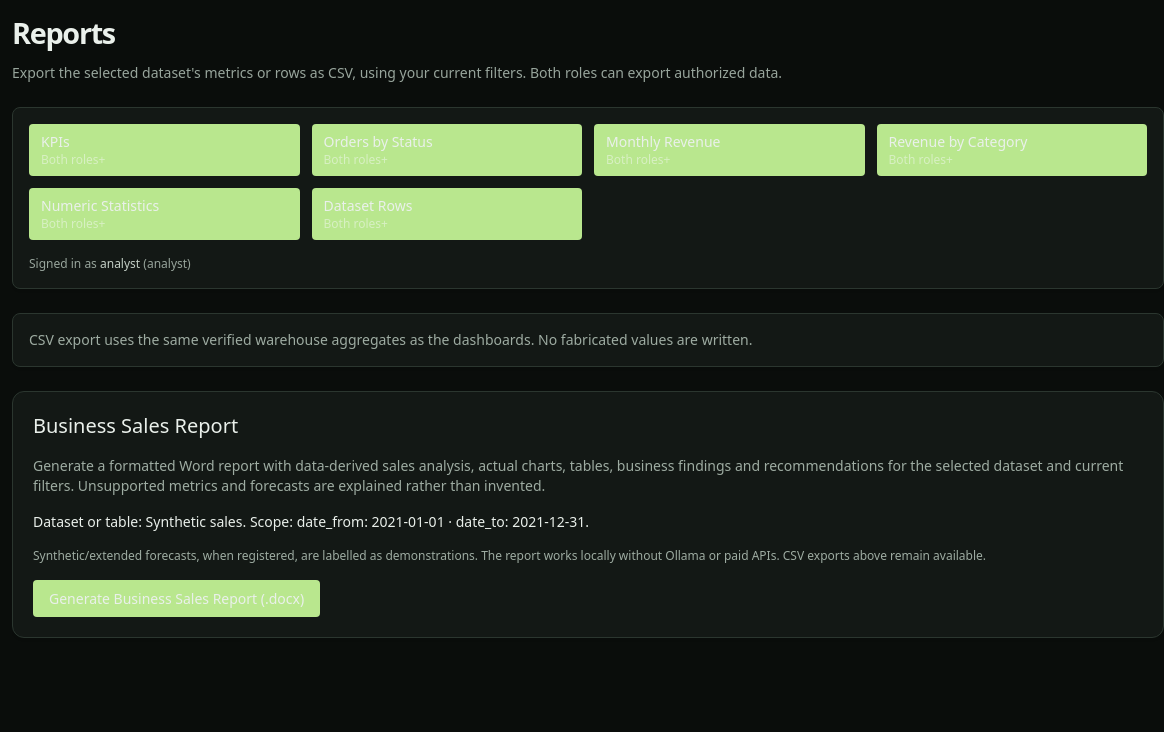
Test case: shows server errors and an actionable retry without claiming a document exists
Click the button "Generate Business Sales Report (.docx)". click: (177, 598)
box: [33, 580, 320, 616]
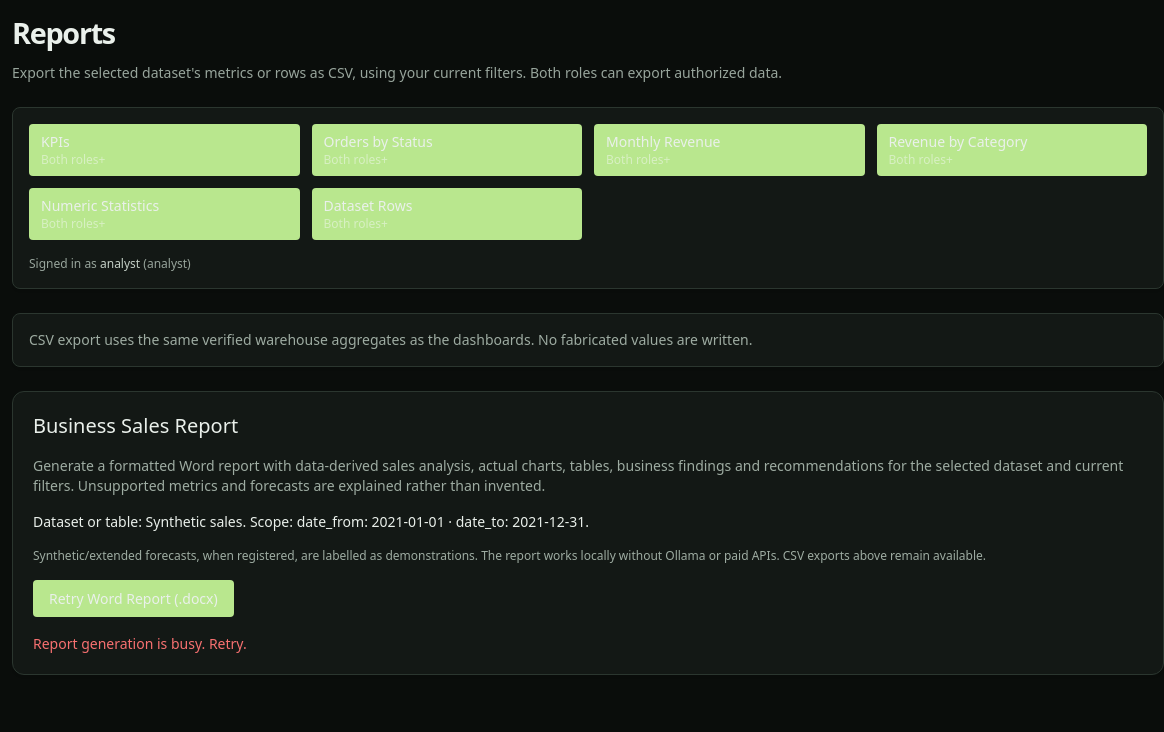
Expected: the button "Retry Word Report (.docx)" is enabled, [33, 580, 234, 616]
Expected: the message shows "Report generation is busy", [33, 634, 247, 652]
